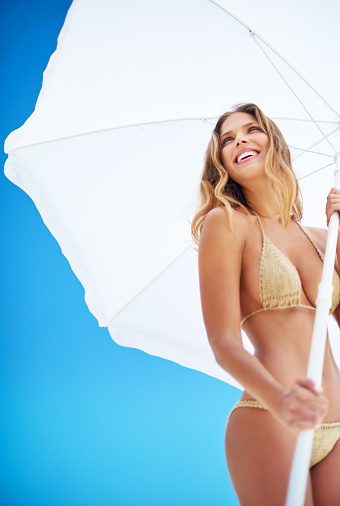em pe: (176, 81, 340, 506)
